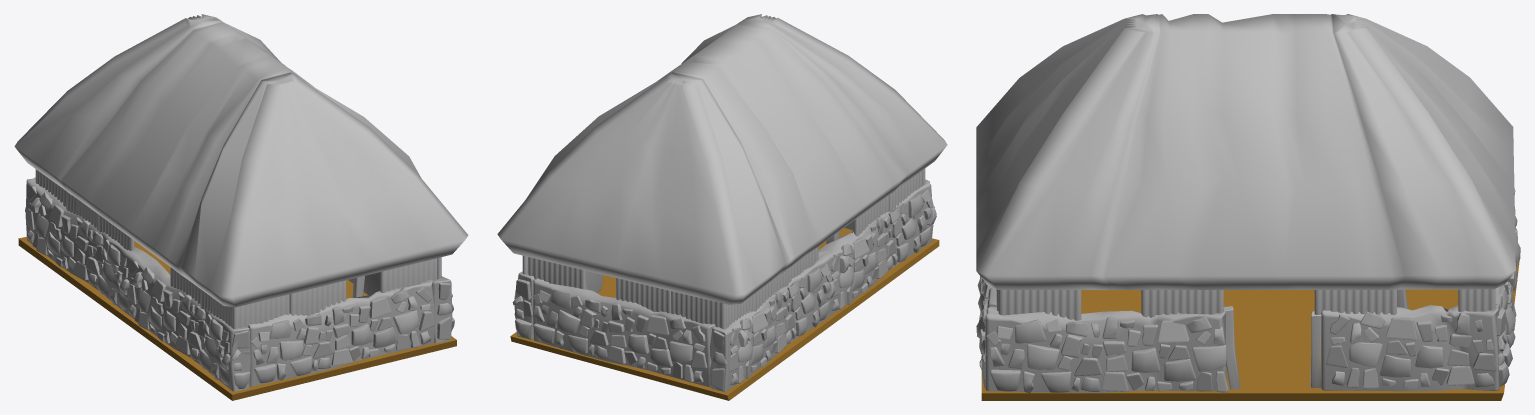
Rendered from MSH_Static_House_B.fbx.
The picture shows the model from 3 angles, left to right: view 1: azimuth 30°, elevation 25°; view 2: azimuth 150°, elevation 25°; view 3: azimuth 270°, elevation 25°; orthographic projection. The views are drawn at different scales.
Visible parts, largest first — view 1: HouseB2; view 2: HouseB2; view 3: HouseB2.
Part boxes in pixels (x1,y1,x2,y2): HouseB2: [14, 14, 468, 400]; HouseB2: [497, 14, 947, 400]; HouseB2: [976, 14, 1520, 400].
Bounding box in the file's own units: 33.07 × 31.33 × 49.54.
